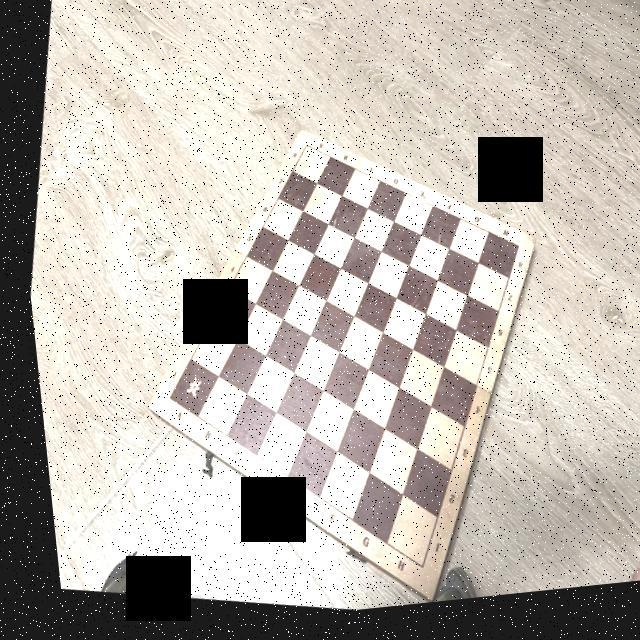chess-table-corners: (506, 250, 516, 262), (404, 568, 414, 579), (156, 394, 164, 404), (299, 148, 304, 154)
